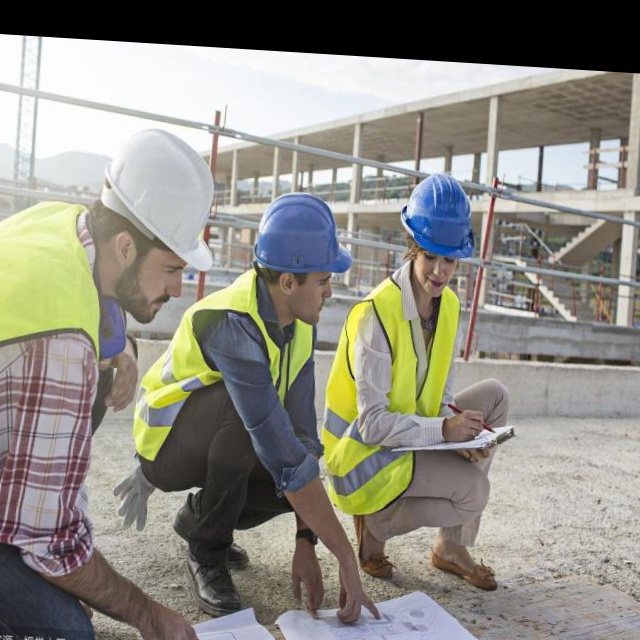Con_Casco: (96, 125, 219, 319), (397, 173, 480, 282)
Con_Chaleco: (0, 194, 112, 528), (324, 274, 466, 518)
